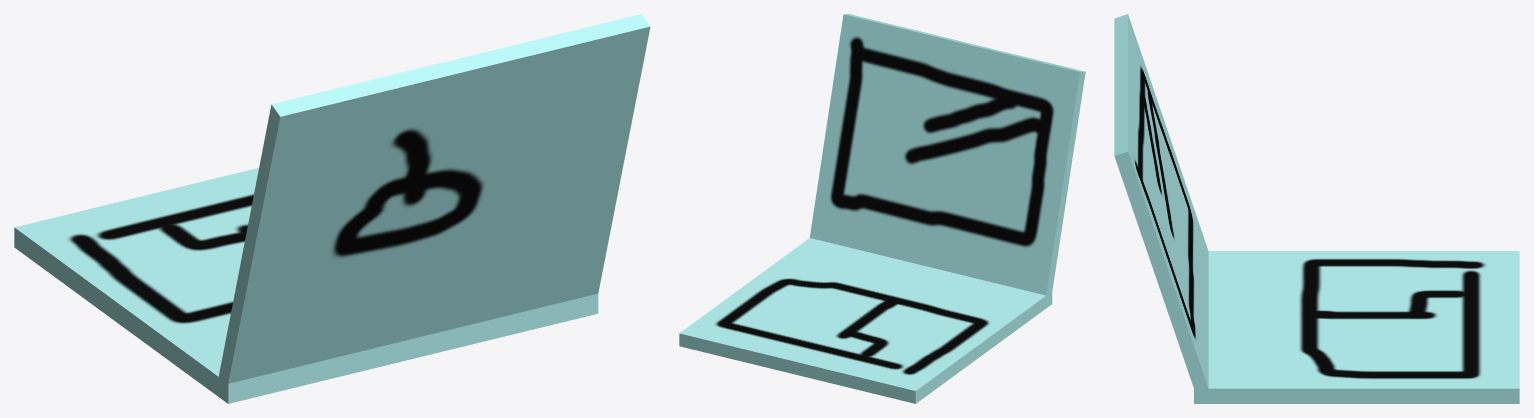
3 views of the same model, side by side, from view 1: azimuth 30°, elevation 25°; view 2: azimuth 150°, elevation 25°; view 3: azimuth 270°, elevation 25° (orthographic). The views are drawn at different scales.
Visible parts, largest first — view 1: PC; view 2: PC; view 3: PC.
Part boxes in pixels (x1,y1,x2,y2): PC: (14, 14, 650, 403); PC: (679, 14, 1085, 403); PC: (1114, 14, 1519, 403).
Bounding box in the file's own units: 2 × 1.71 × 2.49.
Materials: 1 (1 with a texture image).
